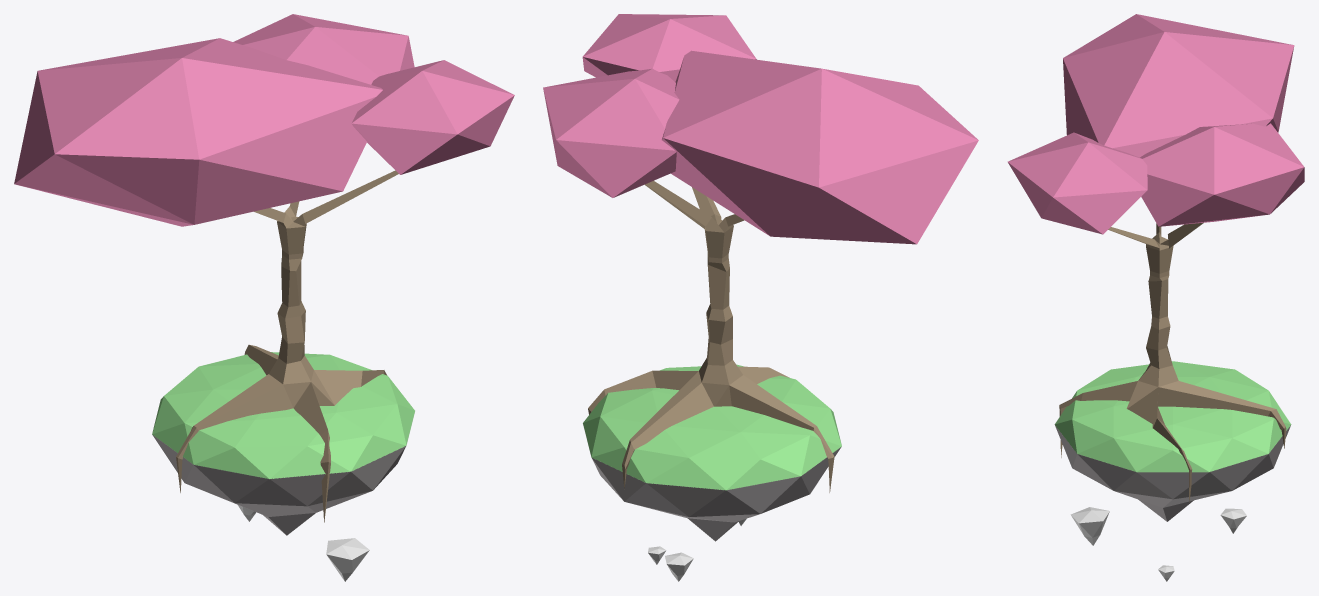
The model's file is floatingTree.fbx.
3 views of the same model, side by side, from view 1: azimuth 30°, elevation 25°; view 2: azimuth 150°, elevation 25°; view 3: azimuth 270°, elevation 25° (orthographic). The views are drawn at different scales.
Visible parts, largest first — view 1: Icosphere.002, Icosphere, Icosphere.001, Icosphere.003, Icosphere.006; view 2: Icosphere.002, Icosphere, Icosphere.001, Icosphere.003; view 3: Icosphere.002, Icosphere, Icosphere.001, Icosphere.003, Icosphere.006, Icosphere.004.
Boxes of the visible parts, left/top/right/bottom form: Icosphere.002: left=14, top=14, right=514, bottom=226; Icosphere: left=152, top=352, right=414, bottom=479; Icosphere.001: left=176, top=170, right=398, bottom=522; Icosphere.003: left=152, top=434, right=407, bottom=535; Icosphere.006: left=326, top=538, right=369, bottom=581; Icosphere.002: left=543, top=14, right=978, bottom=244; Icosphere: left=583, top=364, right=841, bottom=490; Icosphere.001: left=588, top=180, right=834, bottom=492; Icosphere.003: left=584, top=429, right=841, bottom=541; Icosphere.002: left=1007, top=14, right=1304, bottom=234; Icosphere: left=1055, top=361, right=1290, bottom=472; Icosphere.001: left=1059, top=222, right=1286, bottom=502; Icosphere.003: left=1054, top=424, right=1291, bottom=521; Icosphere.006: left=1070, top=507, right=1109, bottom=545; Icosphere.004: left=1220, top=508, right=1246, bottom=533.
Size of the model in its own units: 2673 by 3311 by 1862.
